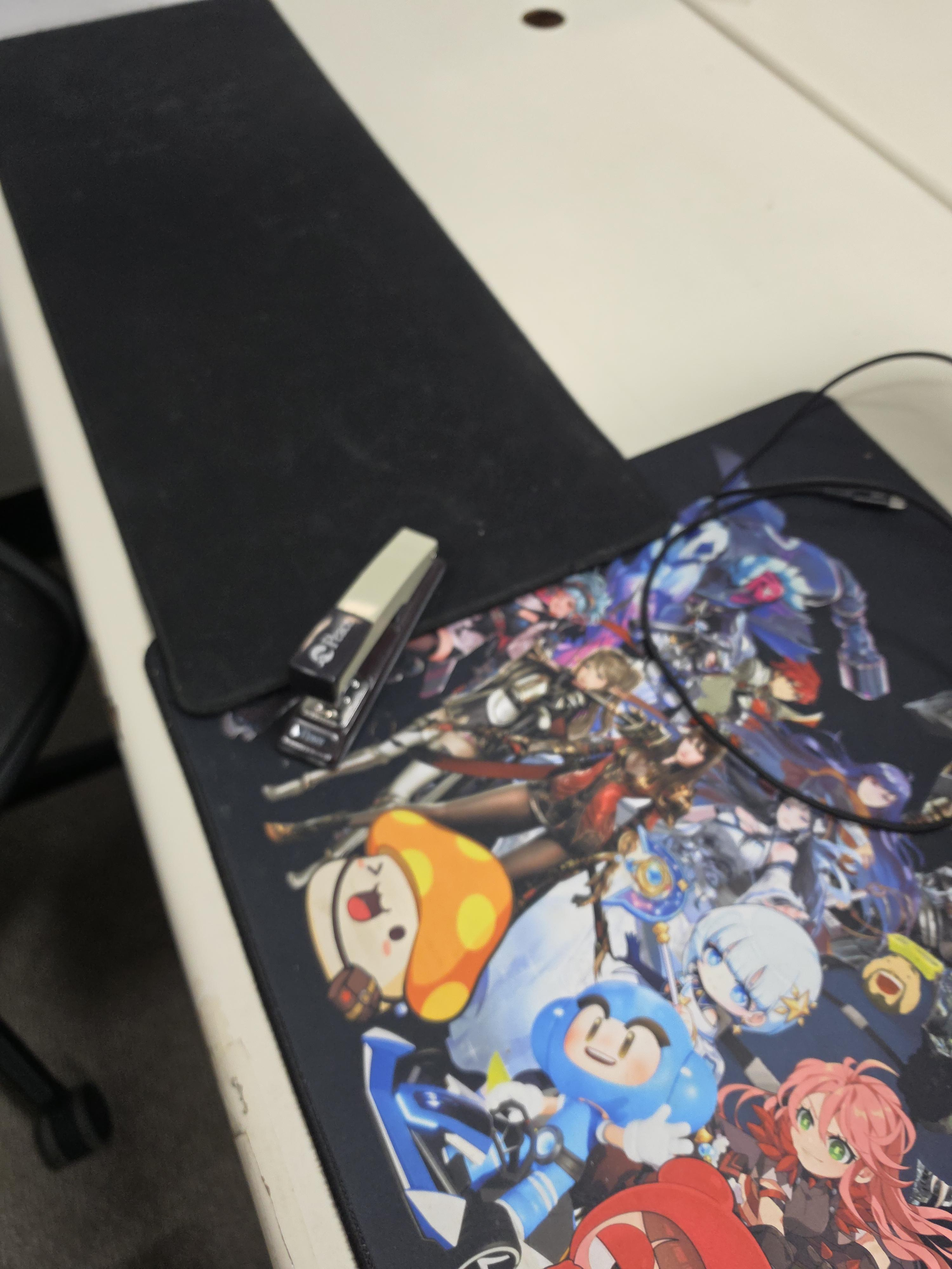stapler: (275, 525, 447, 769)
